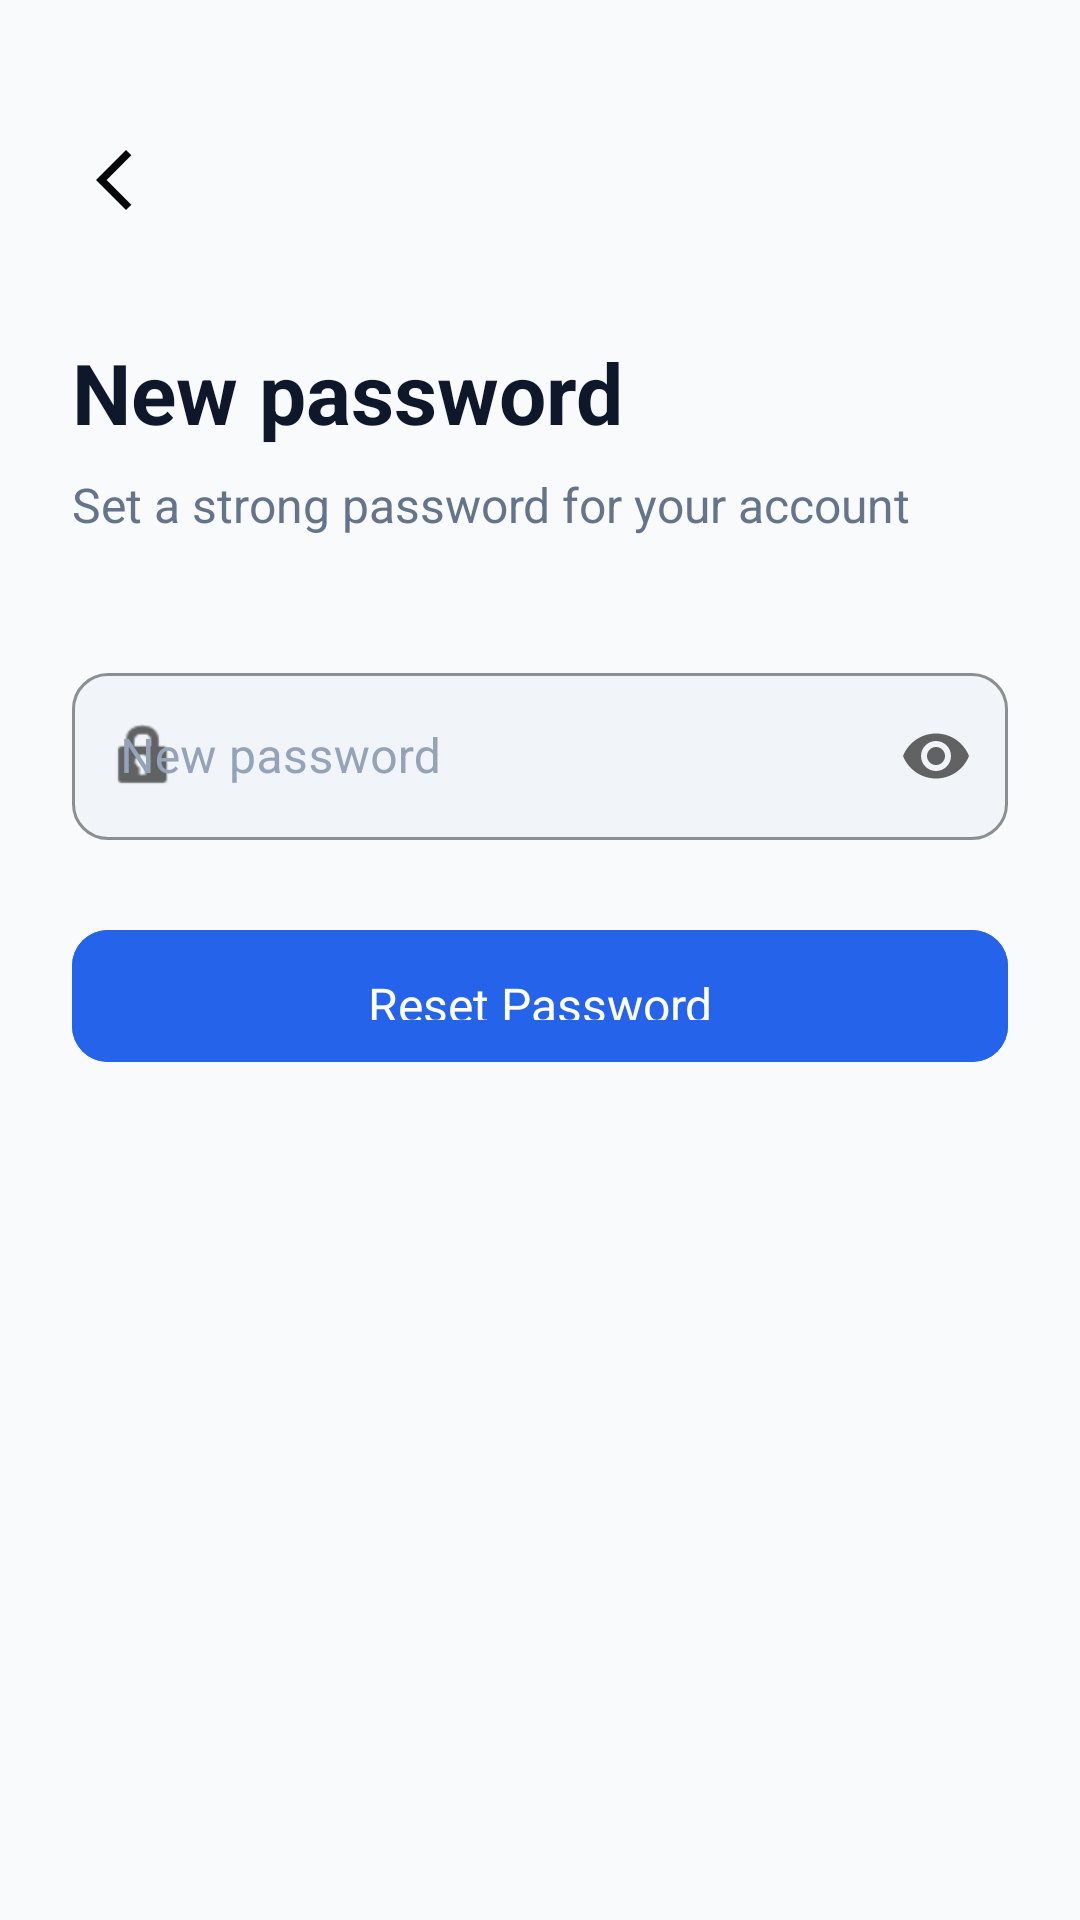

Where to tap for icons on this 1080×1920 app screen, as [x,y]:
Back: [113,180]
